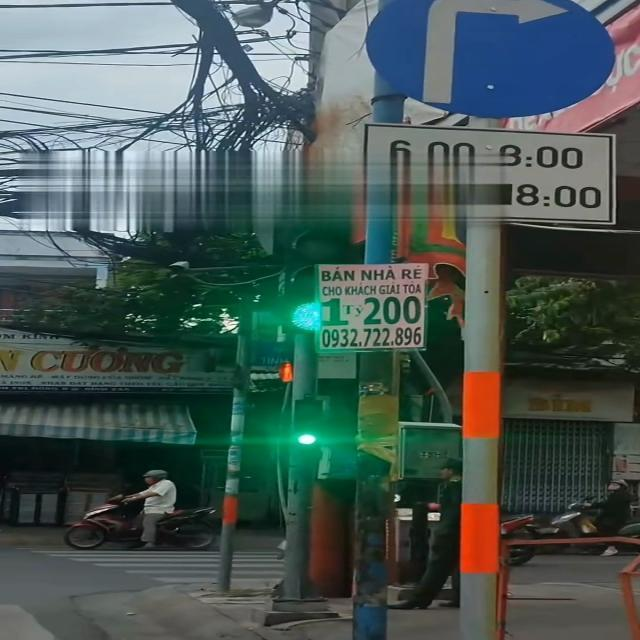301d-cac-xe-chi-duoc-re-phai-2: (361, 0, 614, 120)
